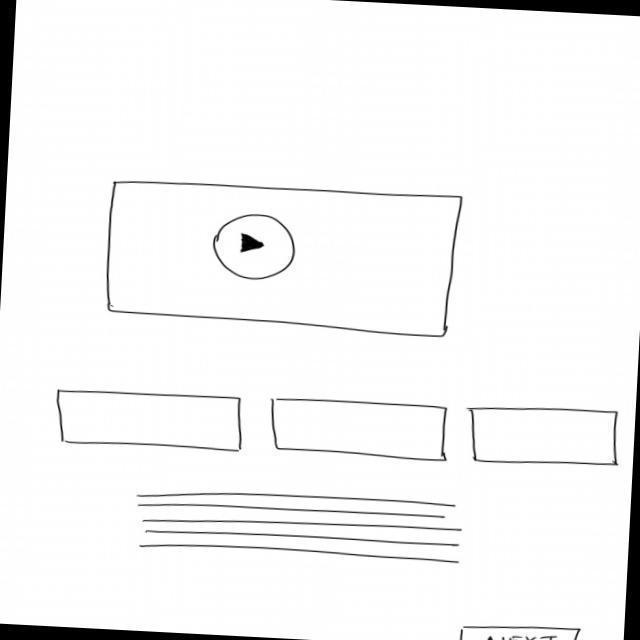button: (455, 620, 583, 640)
container: (56, 386, 246, 455), (270, 396, 453, 465), (465, 403, 624, 474)
textbox: (135, 484, 468, 569)
